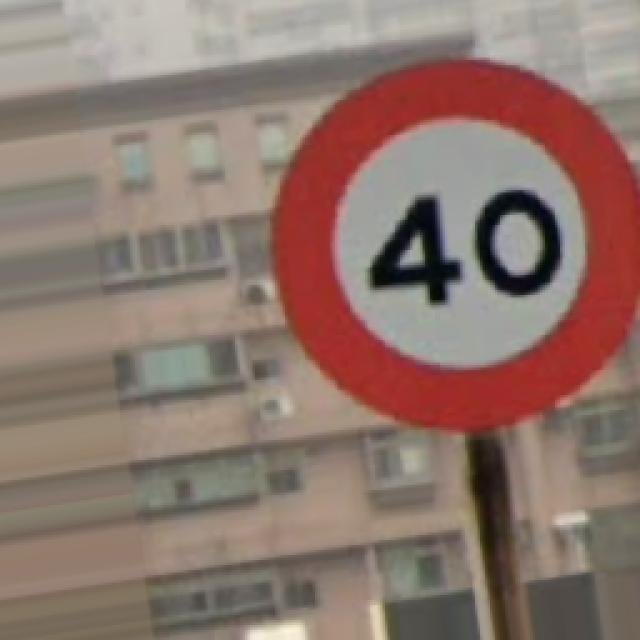Speed Limit -40-: (272, 60, 638, 430)
